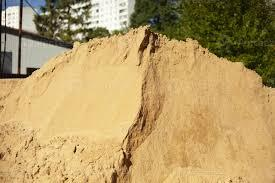sand: (65, 95, 92, 121), (177, 97, 200, 118), (231, 122, 254, 143), (108, 80, 130, 99), (208, 157, 220, 168)
